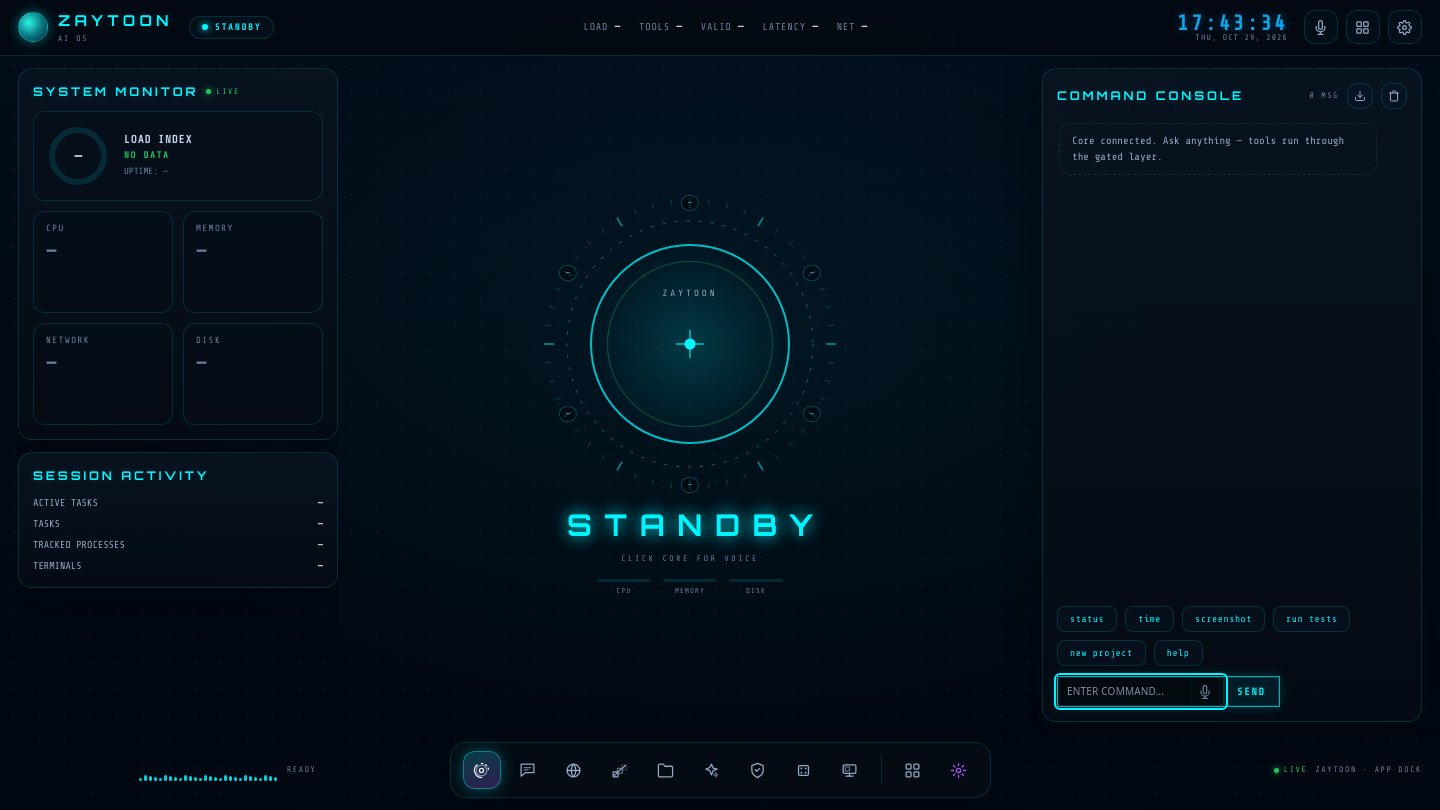
Scenario: NexusDashboard › keeps the browser path fallback and its OPEN submit
The width and height of the screenshot is (1440, 810).
Click the button named "All commands" next to "17:43:34".
click(1363, 27)  # box top-left (1346, 10), bottom-right (1380, 44)
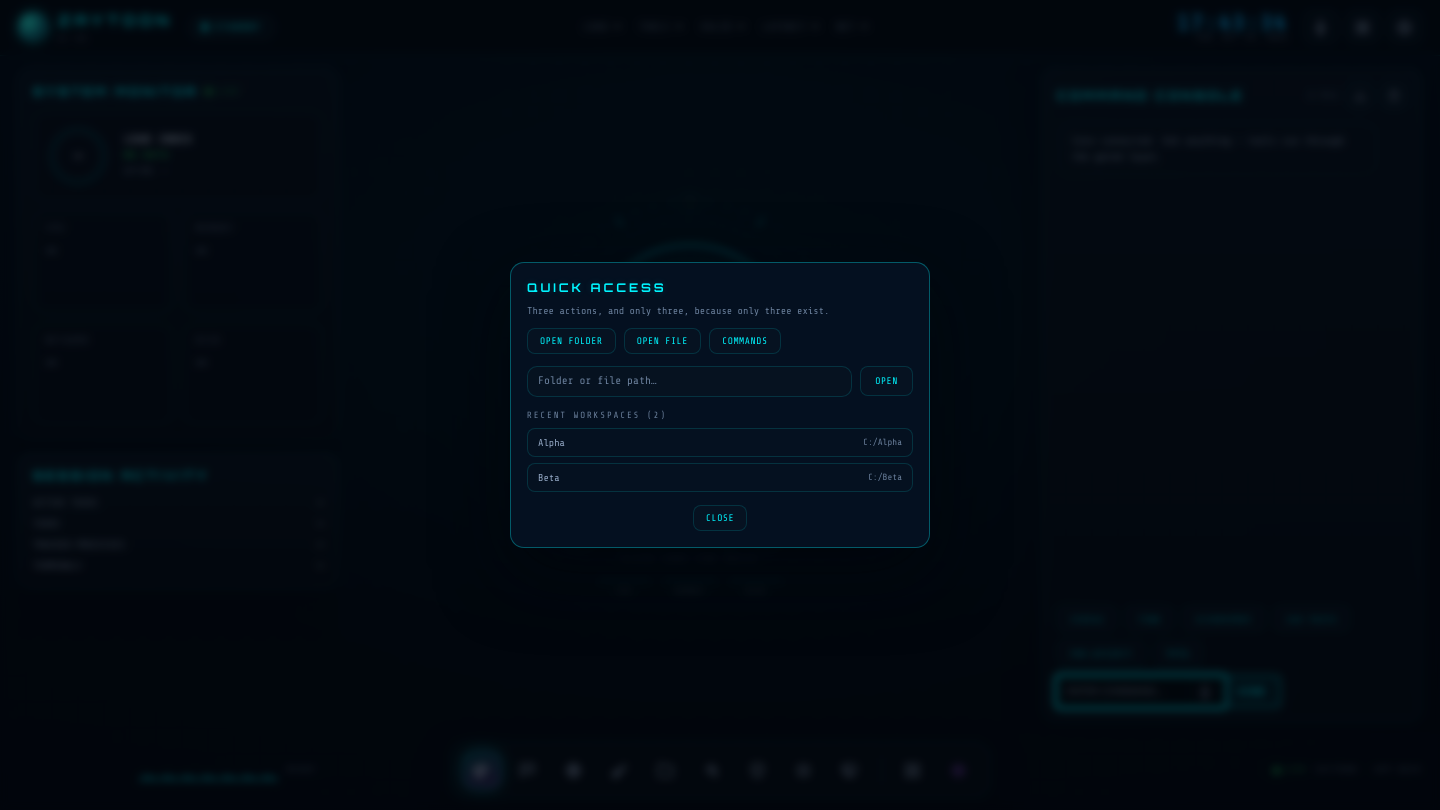
Expected: the field labelled "Folder or file path…" is shown, top-left (527, 366), bottom-right (852, 396)
Expected: the button "OPEN" is shown, top-left (860, 366), bottom-right (913, 396)
